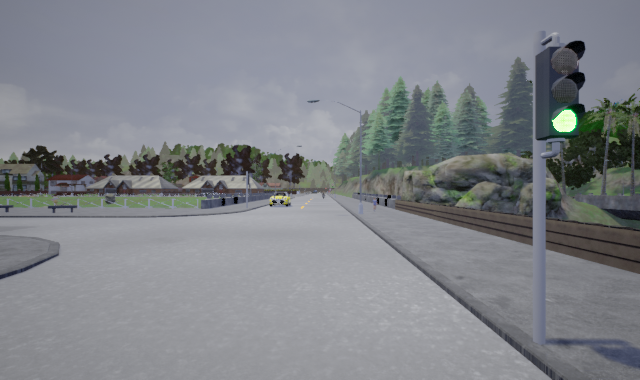vehicle: (269, 192, 290, 207)
